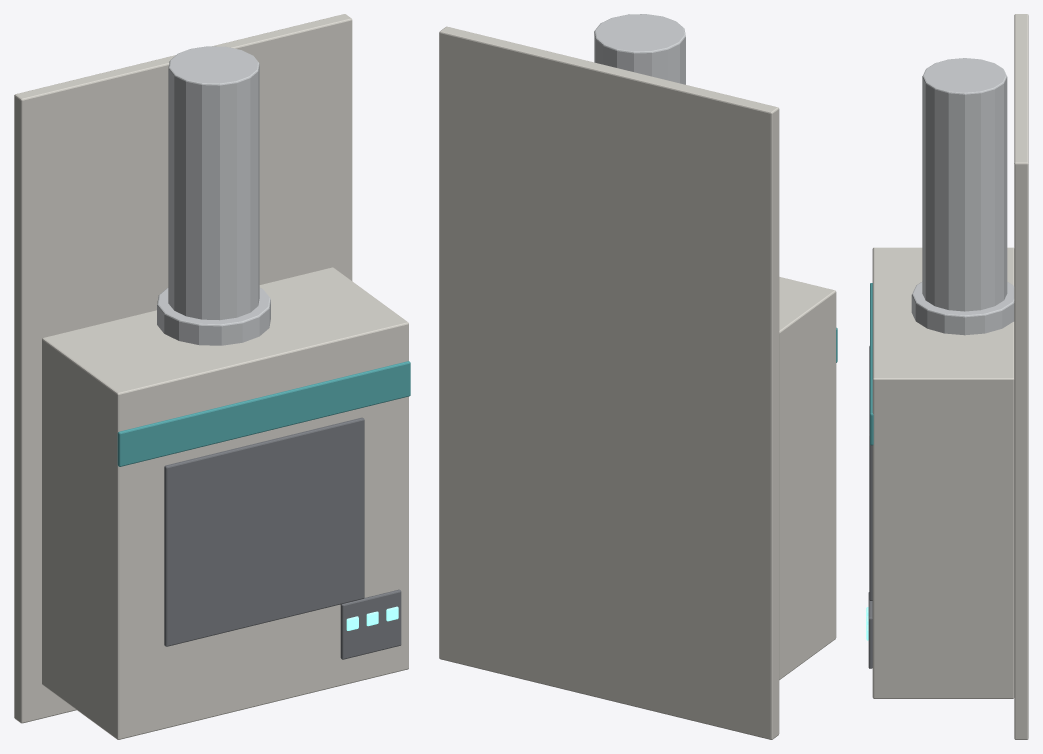
Rendered from pneumatic_tube_station.glb.
The picture shows the model from 3 angles, left to right: view 1: azimuth 30°, elevation 25°; view 2: azimuth 150°, elevation 25°; view 3: azimuth 270°, elevation 25°; orthographic projection. The views are drawn at different scales.
Parts seen in each view (by area): view 1: pneumatic_tube_station; view 2: pneumatic_tube_station; view 3: pneumatic_tube_station.
Boxes of the visible parts, bbox=[...] form: pneumatic_tube_station: bbox=[14, 14, 410, 739]; pneumatic_tube_station: bbox=[439, 14, 837, 739]; pneumatic_tube_station: bbox=[866, 14, 1028, 739].
Bounding box in the file's own units: 0.5 × 0.92 × 0.229.
